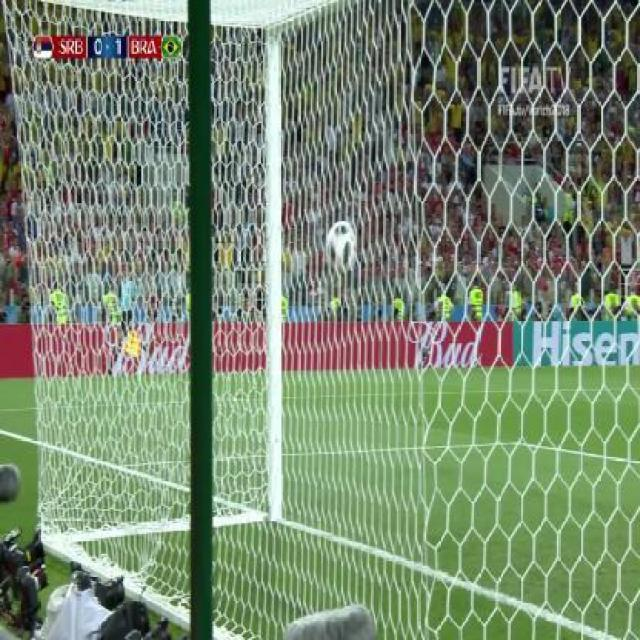ball: (325, 210, 356, 283)
